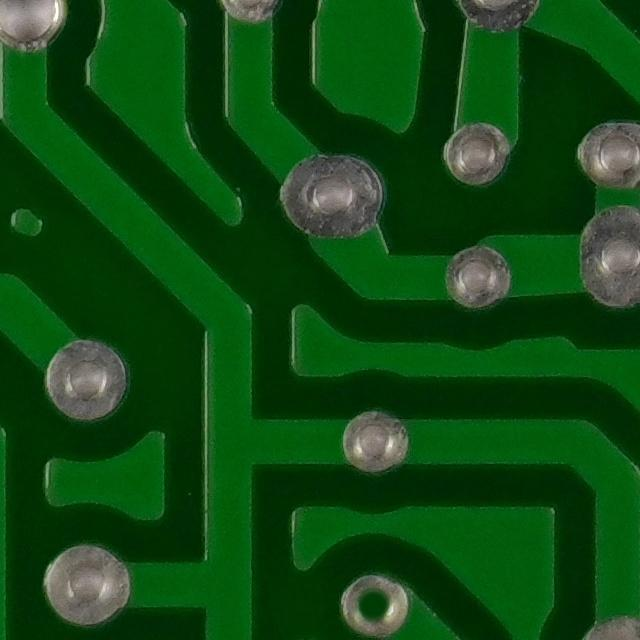missing_hole: (339, 573, 411, 634)
